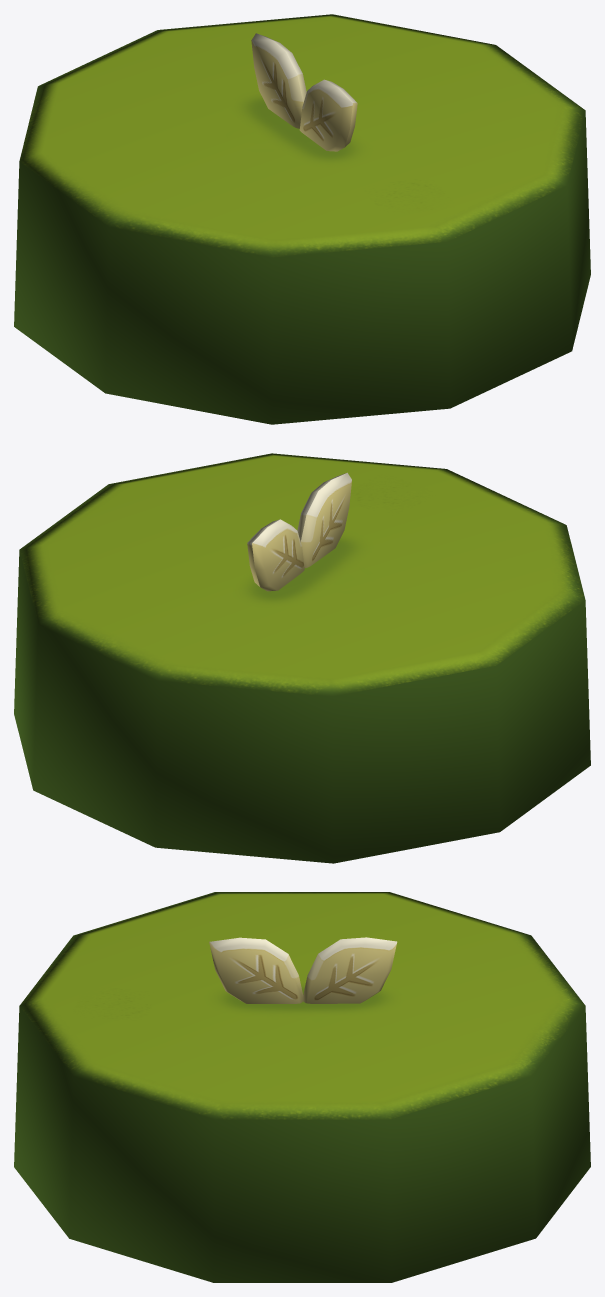
File: Matcha_Whole.fbx
3 views of the same model, one above another, from view 1: azimuth 30°, elevation 25°; view 2: azimuth 150°, elevation 25°; view 3: azimuth 270°, elevation 25° (orthographic). The views are drawn at different scales.
Parts seen in each view (by area): view 1: Matcha_Whole; view 2: Matcha_Whole; view 3: Matcha_Whole.
Boxes of the visible parts, <box> form: Matcha_Whole: <box>14,14,590,424</box>; Matcha_Whole: <box>14,453,590,863</box>; Matcha_Whole: <box>14,892,590,1282</box>.
Size of the model in its own units: 79.05 by 36.69 by 83.09.
